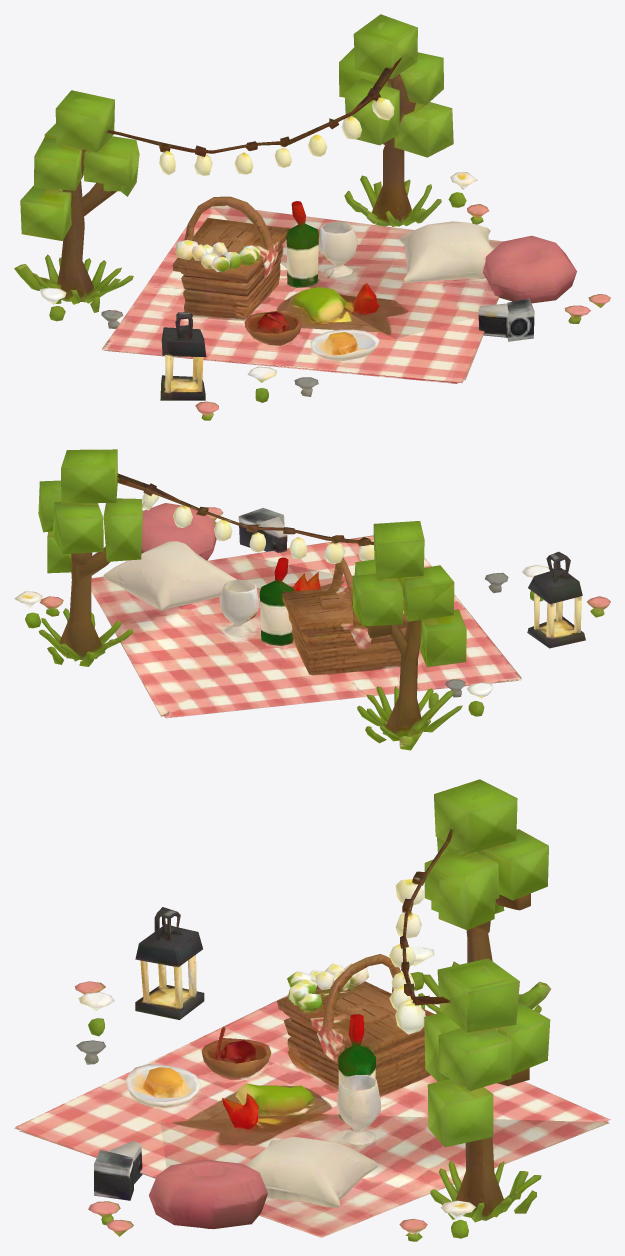
Rendered from picnic.glb.
The picture shows the model from 3 angles, top to bottom: view 1: azimuth 30°, elevation 25°; view 2: azimuth 150°, elevation 25°; view 3: azimuth 270°, elevation 25°; orthographic projection. The views are drawn at different scales.
Parts seen in each view (by area): view 1: mesh_node; view 2: mesh_node; view 3: mesh_node.
Boxes of the visible parts, bbox=[...] form: mesh_node: bbox=[14, 14, 610, 420]; mesh_node: bbox=[14, 449, 610, 750]; mesh_node: bbox=[14, 779, 610, 1241].
Size of the model in its own units: 1 by 0.4229 by 0.9609.
1 material, 1 textured.
